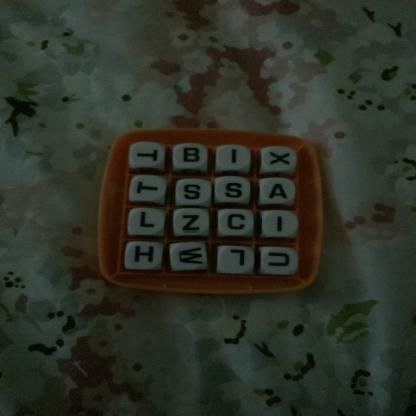a: (265, 180, 295, 204)
b: (179, 146, 206, 168)
c: (222, 211, 254, 236)
h: (129, 242, 164, 268)
i: (265, 213, 300, 238), (221, 146, 251, 168)
l: (221, 246, 255, 273), (132, 209, 164, 234)
s: (179, 181, 211, 205), (219, 180, 250, 203)
t: (129, 141, 167, 169), (132, 177, 165, 201)
u: (265, 249, 296, 273)
w: (174, 243, 209, 270)
x: (264, 149, 298, 171)
z: (176, 211, 210, 237)
